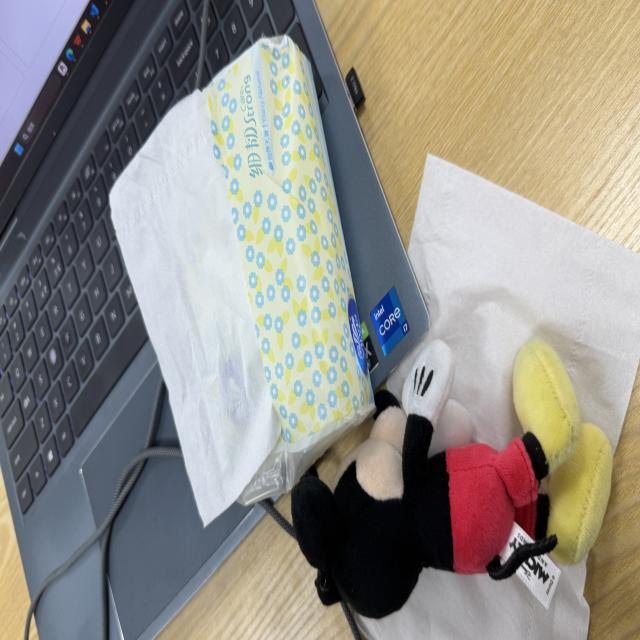mickey: (292, 341, 612, 617)
tissue: (208, 37, 374, 500), (111, 93, 280, 524)
